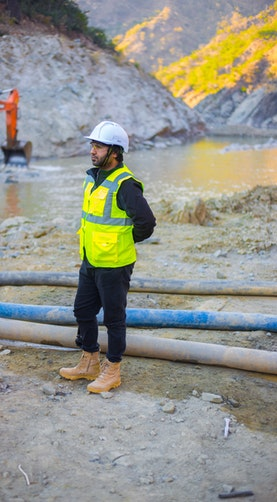helmet: (89, 123, 138, 156)
